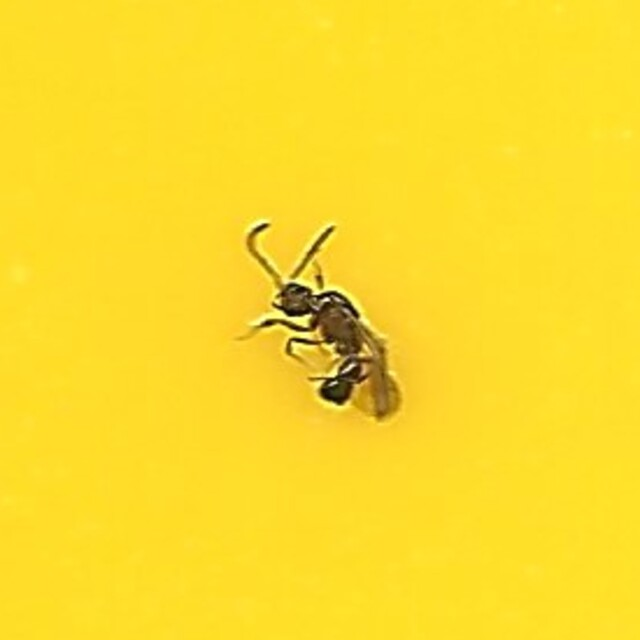Hymenoptera: (233, 217, 407, 423)
